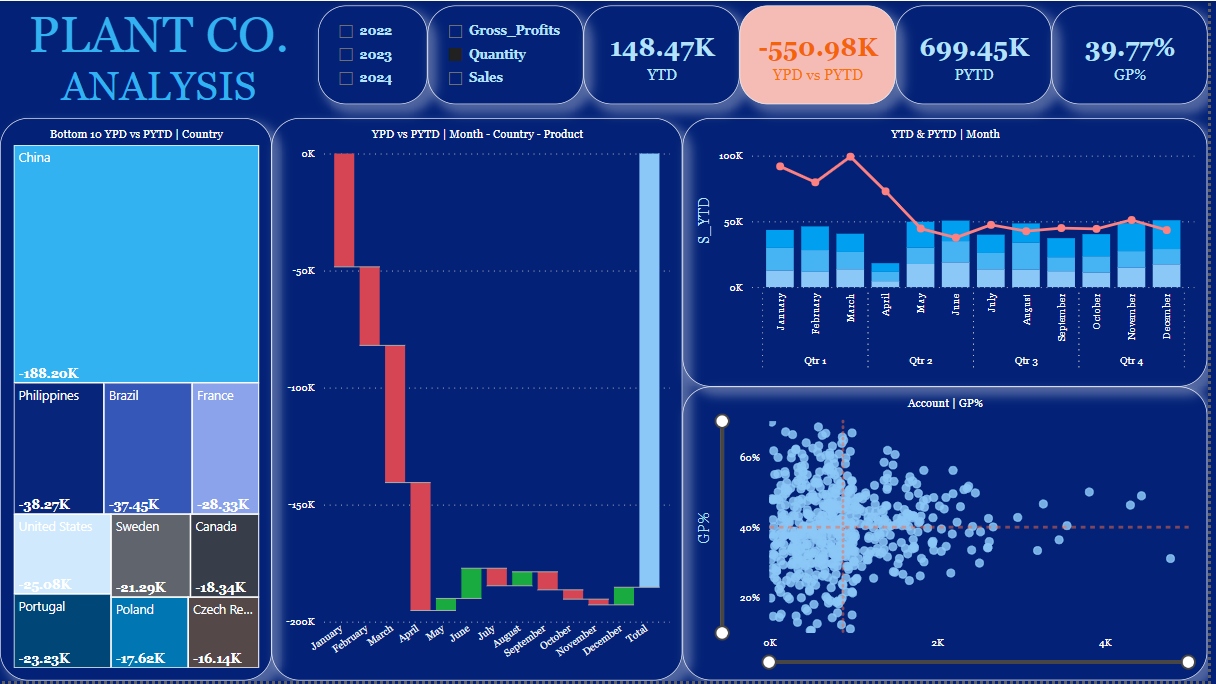

This screenshot's page, from the dashboard's own definition file:
{"tool":"powerbi","page":{"name":"Page 1","canvas":[1280,720],"ordinal":0},"visuals":[{"type":"card","fields":{"Values":["_Measures.S_YTD"]},"box":[618.8,4.2,165.3,104.9],"z":0},{"type":"card","fields":{"Values":["_Measures.S_PYTD"]},"box":[949.4,4.2,165.3,104.9],"z":1000},{"type":"card","fields":{"Values":["_Measures.YPD vs PYTD"]},"box":[784.1,4.2,165.3,104.9],"z":2000},{"type":"card","fields":{"Values":["_Measures.GP%"]},"box":[1114.7,4.2,165.3,104.9],"z":3000},{"type":"slicer","fields":{"Values":["Slicer_Values.Values"]},"box":[453.5,4.2,165.3,104.9],"z":4000},{"type":"slicer","fields":{"Values":["Dim_Date.Date.Variation.Date Hierarchy.Year"]},"box":[337.5,4.2,116,104.9],"z":5000},{"type":"lineStackedColumnComboChart","title":"YTD & PYTD | Month","fields":{"Y":["_Measures.S_YTD"],"Y2":["_Measures.S_PYTD"],"Series":["Dim_Product.Produt_Type"],"Category":["Dim_Date.Date.Variation.Date Hierarchy.Quarter","Dim_Date.Date.Variation.Date Hierarchy.Month"]},"box":[723.2,124,556.3,284.5],"z":6000},{"type":"waterfallChart","title":"YPD vs PYTD | Month - Country - Product","fields":{"Category":["Dim_Date.Date.Variation.Date Hierarchy.Month","Dim_Accounts.country","Dim_Product.Produt_Type","Dim_Product.Product_Name"],"Y":["_Measures.YPD vs PYTD"]},"box":[287.7,124,435.5,596],"z":6001},{"type":"treemap","title":"Bottom 10 YPD vs PYTD | Country","fields":{"Group":["Dim_Accounts.country"],"Values":["_Measures.YPD vs PYTD"]},"box":[0,124,287.7,596],"z":6002},{"type":"scatterChart","title":"Account | GP%","fields":{"X":["_Measures.S_YTD"],"Category":["Dim_Accounts.Account"],"Y":["_Measures.GP%"]},"box":[723.2,408.5,556.3,311.5],"z":6003},{"type":"textbox","box":[0,0,337,144.6],"z":6004}]}

Visuals, with their boxes in screenshot pixels (x1, y1, x2, y2), scaled from the page's 1280x720 canvas onto the 1216x684 screenshot:
card - _Measures.S_YTD: (588, 4, 745, 104)
card - _Measures.S_PYTD: (902, 4, 1059, 104)
card - _Measures.YPD vs PYTD: (745, 4, 902, 104)
card - _Measures.GP%: (1059, 4, 1215, 104)
slicer - Slicer_Values.Values: (431, 4, 588, 104)
slicer - Dim_Date.Date.Variation.Date Hierarchy.Year: (321, 4, 431, 104)
"YTD & PYTD | Month" lineStackedColumnComboChart: (687, 118, 1215, 388)
"YPD vs PYTD | Month - Country - Product" waterfallChart: (273, 118, 687, 683)
"Bottom 10 YPD vs PYTD | Country" treemap: (0, 118, 273, 683)
"Account | GP%" scatterChart: (687, 388, 1215, 683)
textbox: (0, 0, 320, 137)
